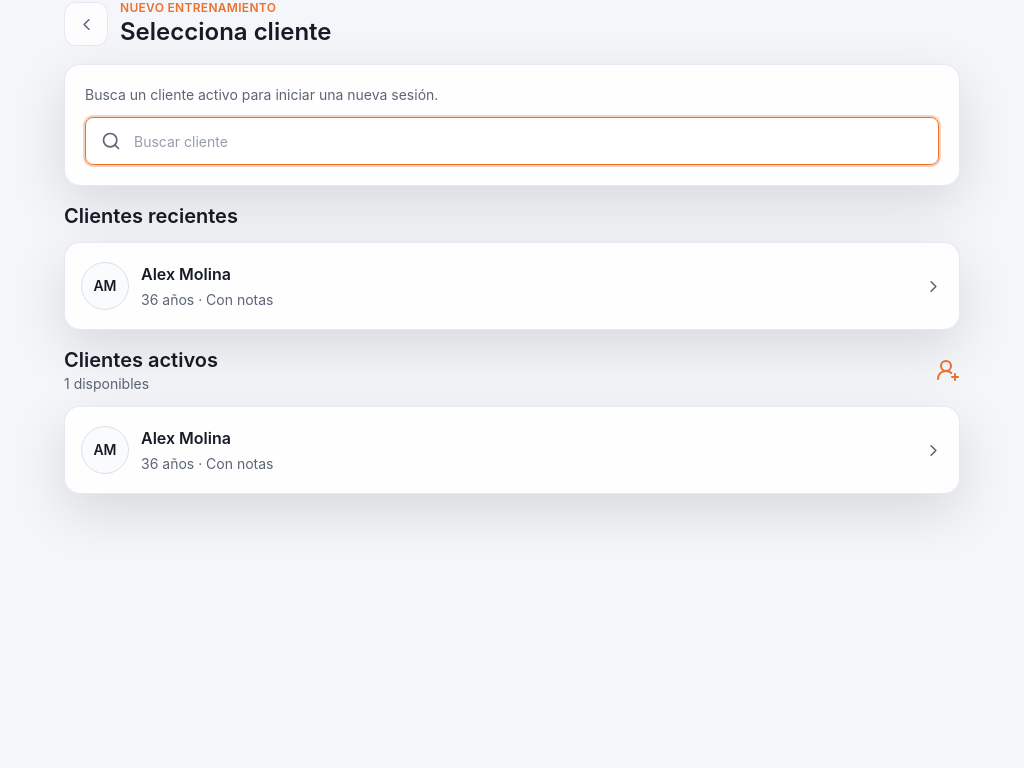
Scenario: NewTrainingSessionPage › closes the confirmation without starting a session
Click the button "AM Alex Molina 36 años · Con notas" below "Clientes recientes": click(105, 286) [65,243,959,329]
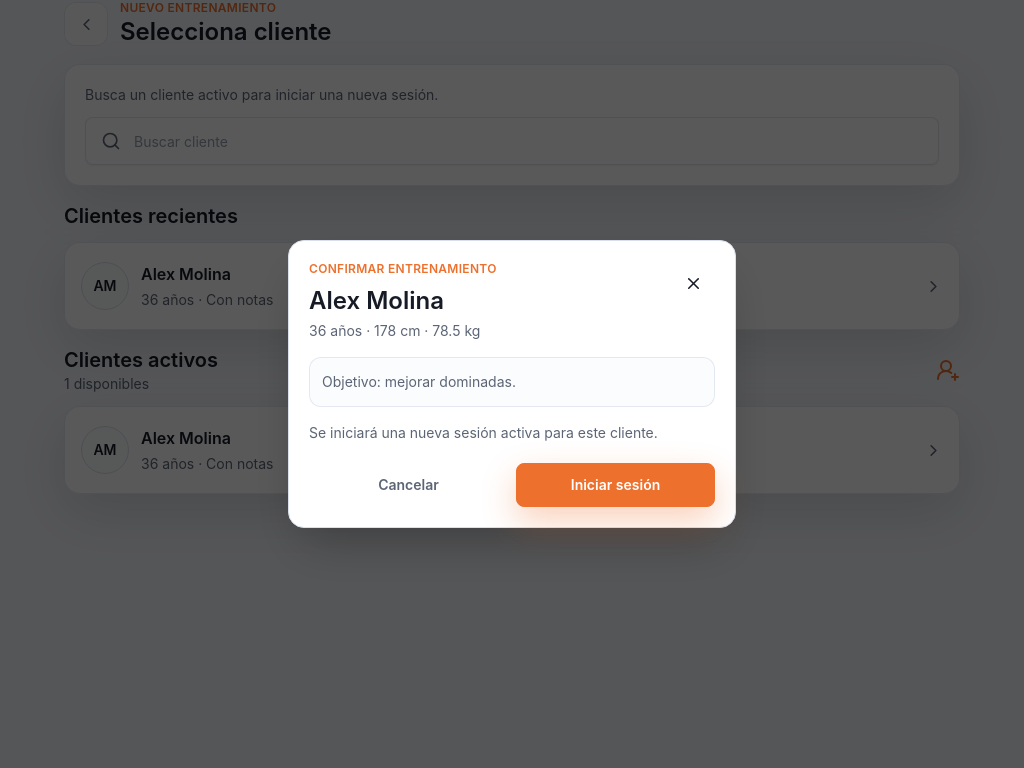
Click the button named "Cerrar": click(693, 283) [671,261,715,305]
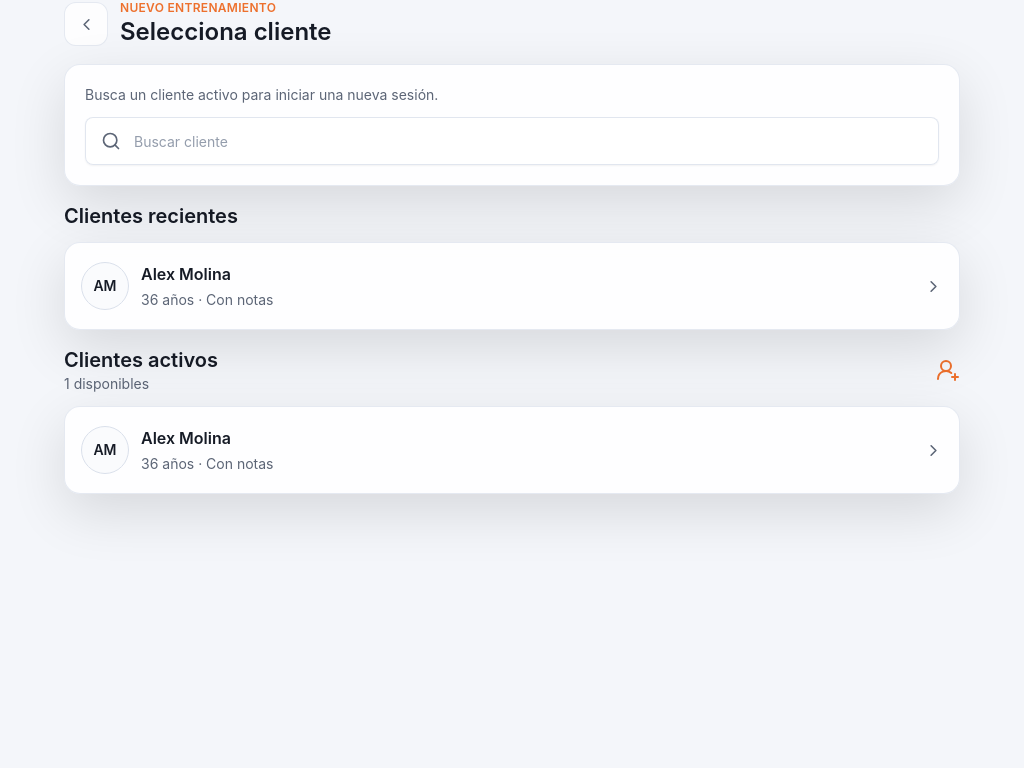
Check: the dialog is gone
